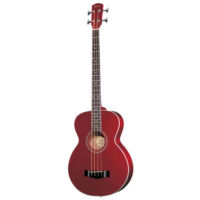guitar: (66, 1, 136, 197)
